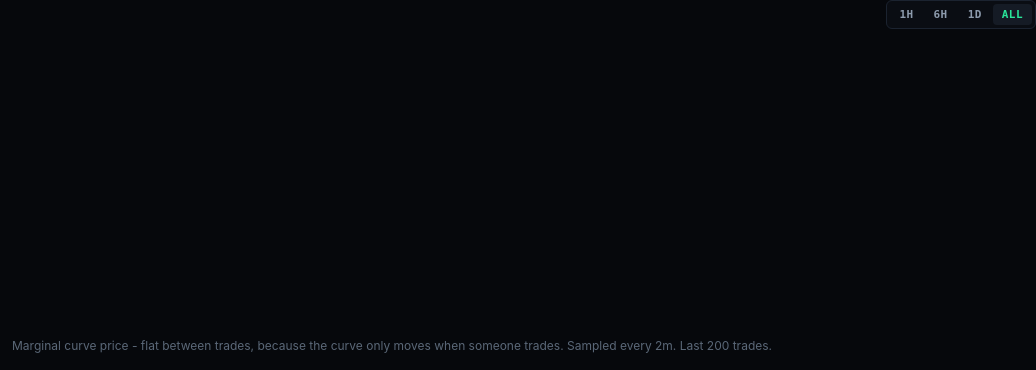
it: CurveChart range selector › drops the caption when the range edge is real, so it is not just always on
This screenshot has width=1036, height=370.
What coordinates should you click on to do the following:
click the button titled "Last hour"
I would click on:
 (906, 14)
Its box is [890,4,922,25].
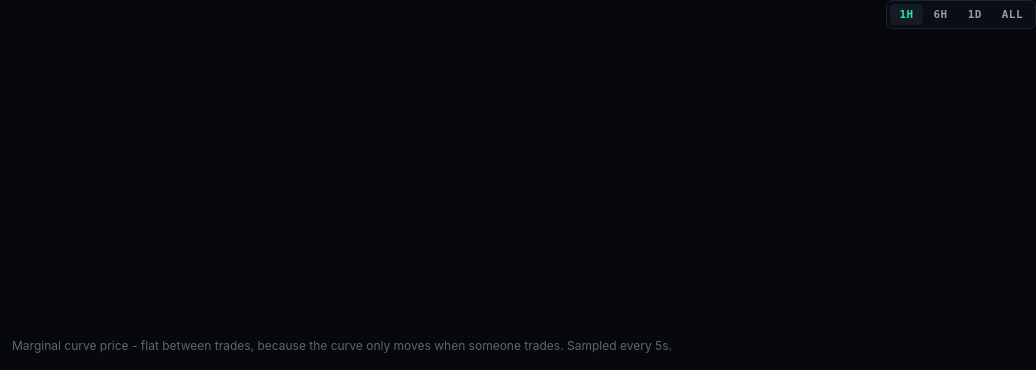
Result: the text "last 200 trades" is gone
